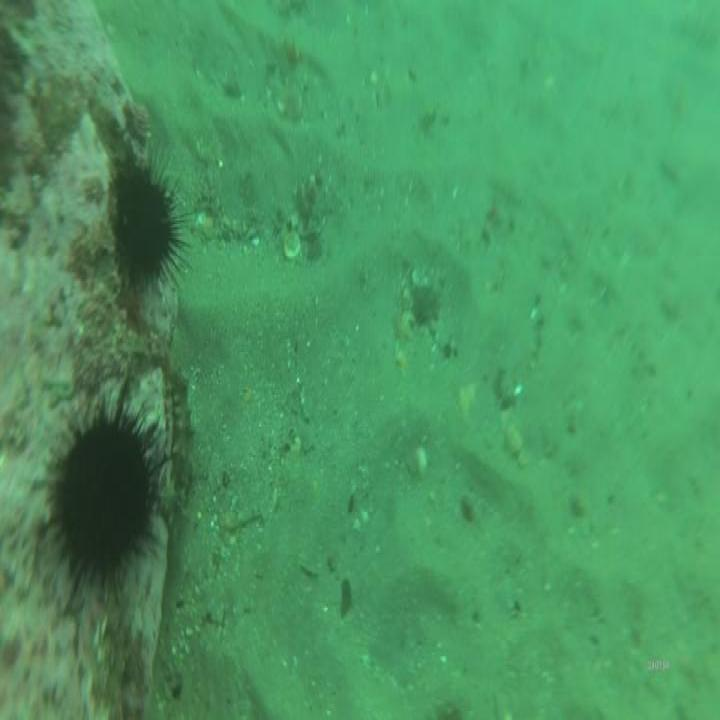echinus: (50, 409, 153, 595), (110, 150, 180, 308)
holothurian: (167, 364, 194, 498)
